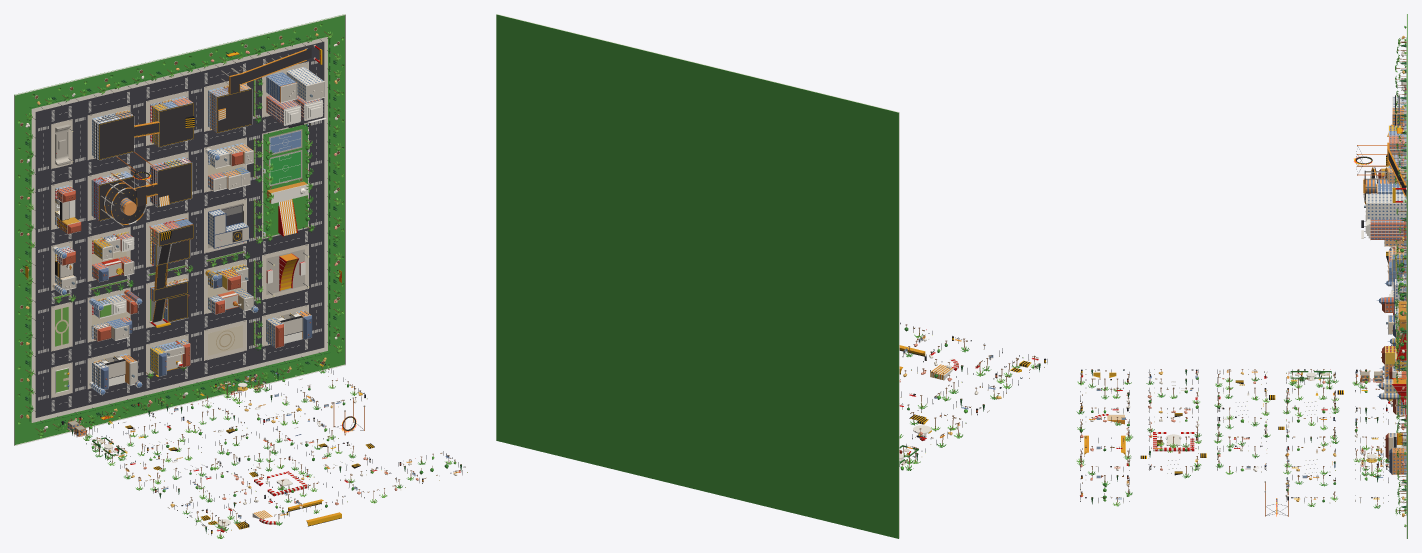
Rendered from CroustyCity_LowPoly (9).fbx.
3 views of the same model, side by side, from view 1: azimuth 30°, elevation 25°; view 2: azimuth 150°, elevation 25°; view 3: azimuth 270°, elevation 25° (orthographic). The views are drawn at different scales.
Visible parts, largest first — view 1: Ground_Asphalt, Green_Belt, Road_Markings, Park_Ground, Route_Helix_Tower, Police_Station, Stunt_MegaRamp, Route_Landing_Deck, Route_Descent_Deck, Route_HalfPipe_Deck, Route_Oval_Deck, LongRamp_001__Route_Descent_LongRamp (+11 smaller); view 2: Green_Belt; view 3: Green_Belt, Building_r0_c4_04, Building_r0_c4_03, Building_r4_c4_02, Route_Helix_Tower, LongRamp_001__Route_Descent_LongRamp.
Part boxes in pixels (x1,y1,x2,y2): Ground_Asphalt: (31, 37, 327, 422); Green_Belt: (14, 14, 345, 445); Road_Markings: (38, 48, 321, 411); Park_Ground: (263, 124, 308, 237); Route_Helix_Tower: (101, 181, 146, 226); Police_Station: (208, 203, 249, 248); Stunt_MegaRamp: (266, 249, 309, 296); Route_Landing_Deck: (99, 115, 133, 160); Route_Descent_Deck: (217, 88, 251, 133); Route_HalfPipe_Deck: (159, 102, 193, 147); Route_Oval_Deck: (157, 162, 191, 206); LongRamp_001__Route_Descent_LongRamp: (232, 48, 311, 84); Green_Belt: (496, 14, 899, 538); Green_Belt: (1406, 14, 1407, 538); Building_r0_c4_04: (1364, 193, 1406, 219); Building_r0_c4_03: (1365, 219, 1406, 239); Building_r4_c4_02: (1388, 448, 1406, 474); Route_Helix_Tower: (1363, 167, 1388, 204); LongRamp_001__Route_Descent_LongRamp: (1387, 148, 1406, 196).
Bounding box in the file's own units: 342 × 372 × 289.
